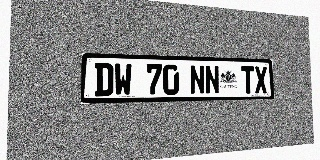0: (163, 64, 179, 95)
7: (146, 64, 162, 95)
D: (95, 63, 113, 96)
N: (190, 65, 205, 95), (205, 65, 220, 94)
T: (241, 66, 255, 94)
W: (114, 63, 132, 96)
X: (254, 66, 268, 93)
